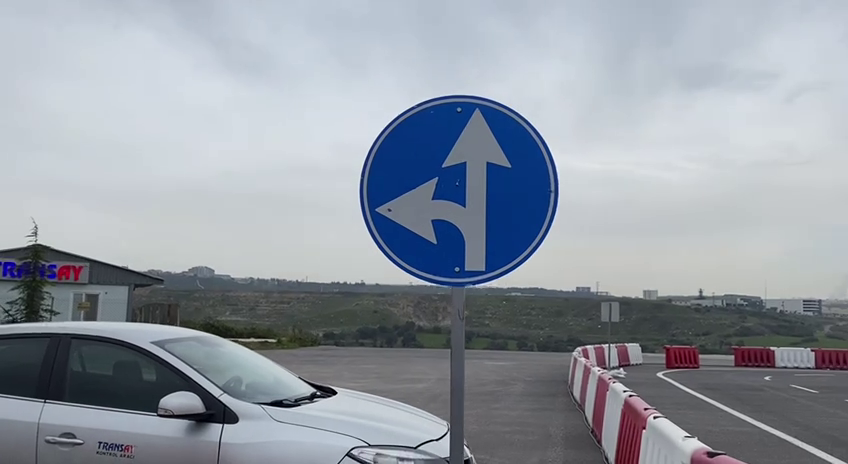forwardAndLeft: (355, 89, 565, 290)
